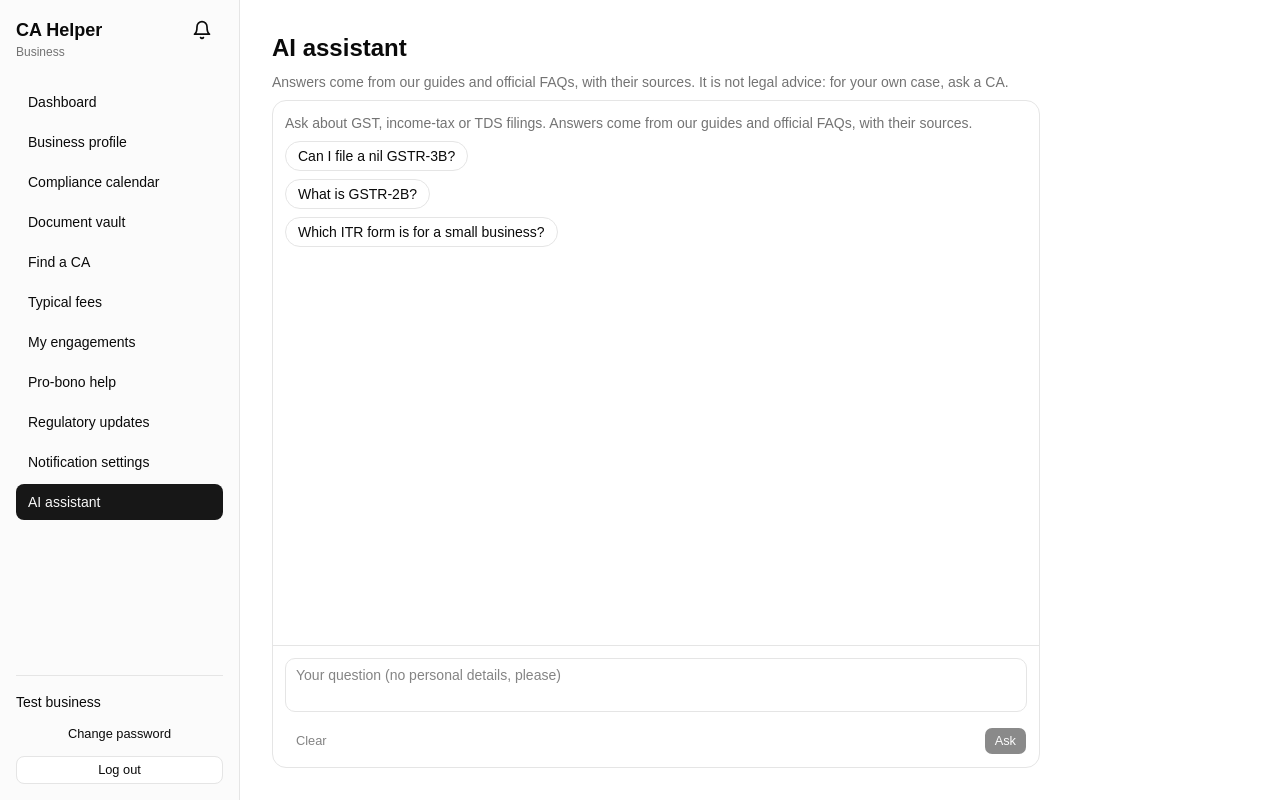
AI assistant page › offers example questions and asks one
Click the button "Can I file a nil GSTR-3B?" at (377, 156), box [285, 141, 468, 171]
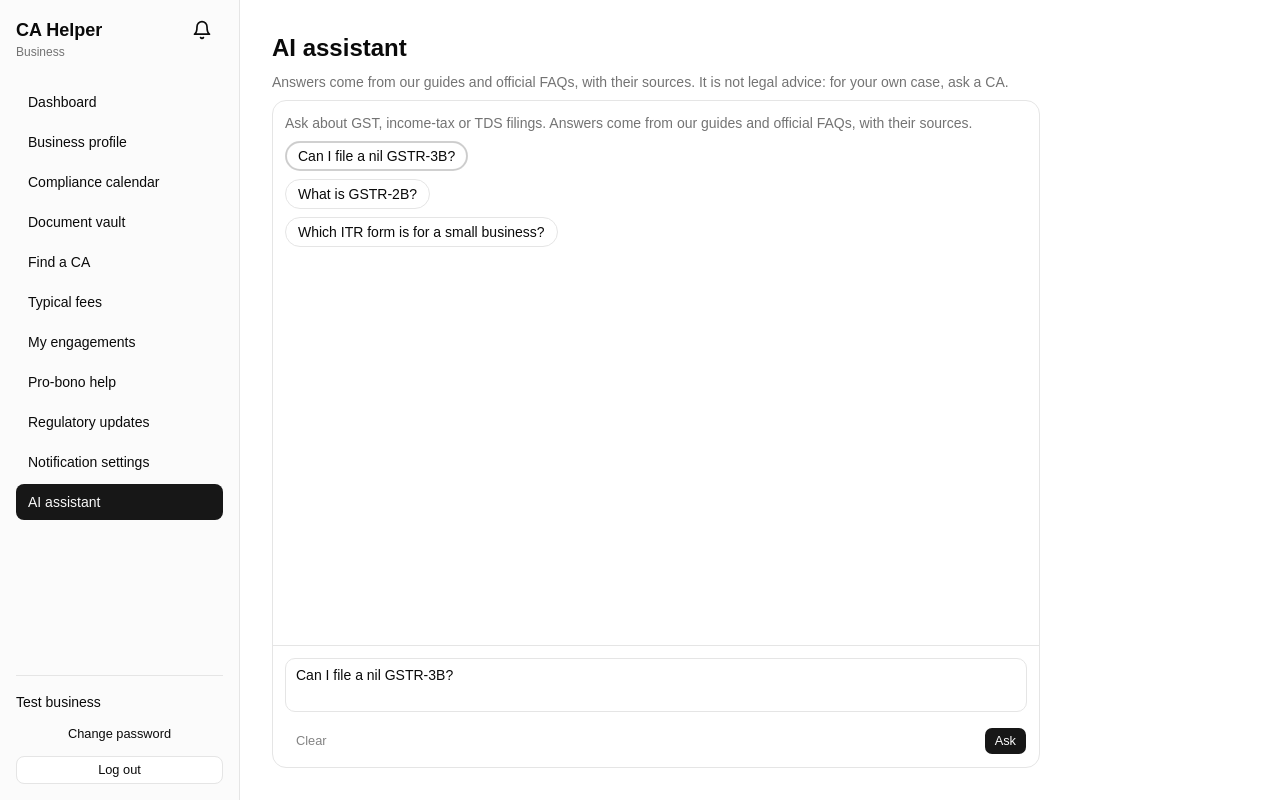
Click the button "Ask" at (1005, 741), box [984, 727, 1027, 755]
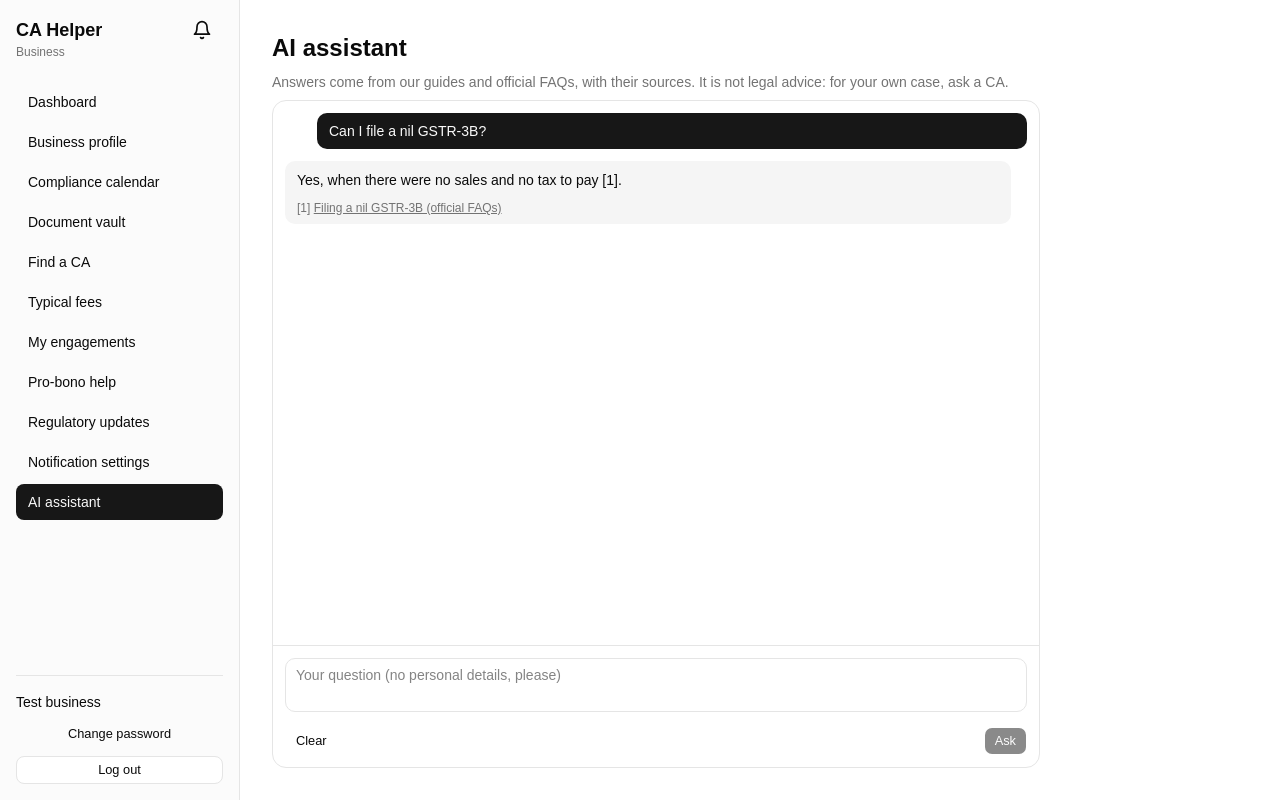
Expected: the text "Yes, when there were no sales and no tax to pay [1]." is shown, [297, 172, 622, 188]
